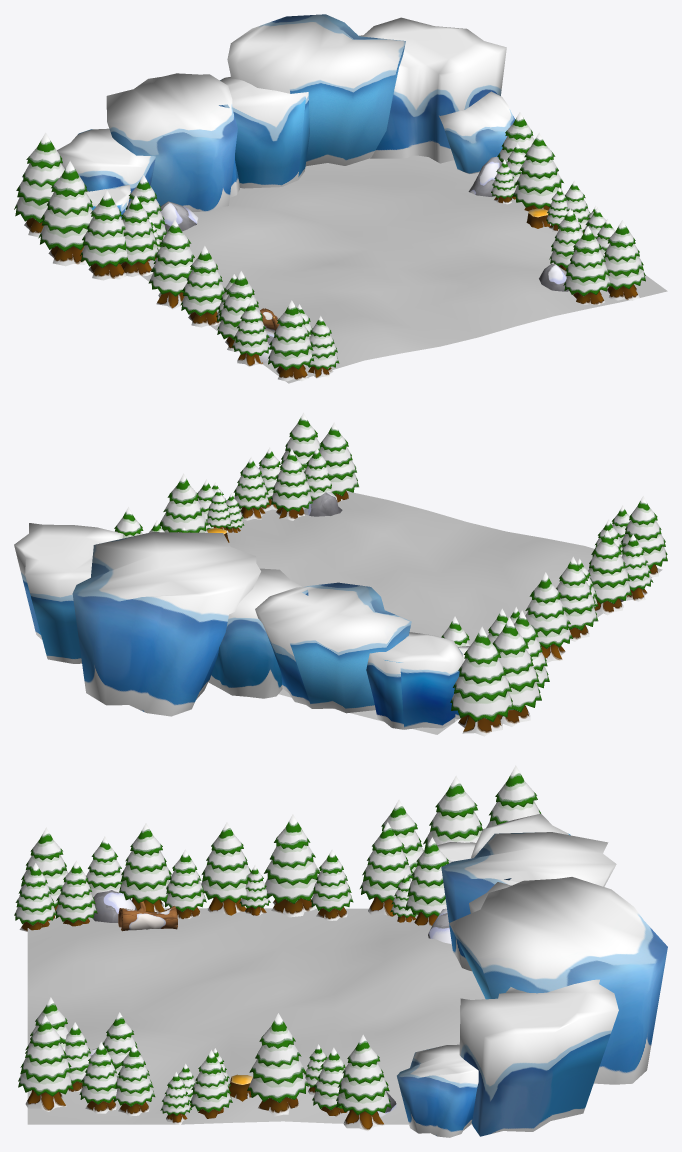
File: newbie-1.FBX
3 renders of one model, top to bottom at view 1: azimuth 30°, elevation 25°; view 2: azimuth 150°, elevation 25°; view 3: azimuth 270°, elevation 25°, orthographic. The views are drawn at different scales.
Visible parts, largest first — view 1: tereno1, Iceberg03, Iceberg006, Iceberg05, Iceberg02, Iceberg01, Iceberg008, Three038, Three037, Three039, Three, Three002 (+18 smaller); view 2: tereno1, Iceberg03, Iceberg006, Iceberg05, Iceberg01, Iceberg02, Three039, Three038, Three, Three009, Three008, Three018 (+12 smaller); view 3: tereno1, Iceberg03, Iceberg05, Iceberg006, Iceberg008, Three012, Three, Three019, Three014, Three008, Three009, Three004 (+25 smaller).
Part boxes in pixels (<box>): tereno1: <box>141,155,667,383</box>; Iceberg03: <box>227,14,405,166</box>; Iceberg006: <box>106,73,239,211</box>; Iceberg05: <box>359,17,506,163</box>; Iceberg02: <box>219,76,309,188</box>; Iceberg01: <box>57,128,155,203</box>; Iceberg008: <box>439,91,515,173</box>; Three038: <box>38,161,93,266</box>; Three037: <box>80,190,128,280</box>; Three039: <box>14,132,64,237</box>; Three: <box>148,219,194,309</box>; Three002: <box>268,300,313,381</box>; tereno1: <box>227,491,662,734</box>; Iceberg03: <box>72,532,260,716</box>; Iceberg006: <box>255,582,411,713</box>; Iceberg05: <box>14,523,122,663</box>; Iceberg01: <box>366,632,463,729</box>; Iceberg02: <box>208,568,308,698</box>; Three039: <box>450,626,514,736</box>; Three038: <box>492,617,541,726</box>; Three: <box>525,572,572,662</box>; Three009: <box>588,530,631,615</box>; Three008: <box>556,556,598,641</box>; Three018: <box>271,449,312,520</box>; tereno1: <box>27,908,485,1124</box>; Iceberg03: <box>449,877,667,1084</box>; Iceberg05: <box>459,979,618,1136</box>; Iceberg006: <box>441,832,616,971</box>; Iceberg008: <box>397,1044,478,1137</box>; Three012: <box>247,1013,308,1116</box>; Three: <box>264,814,319,917</box>; Three019: <box>18,1015,73,1111</box>; Three014: <box>336,1034,391,1131</box>; Three008: <box>201,822,251,915</box>; Three009: <box>119,823,171,912</box>; Three004: <box>360,822,412,916</box>.
Bounding box in the file's own units: 631 × 146 × 640.
